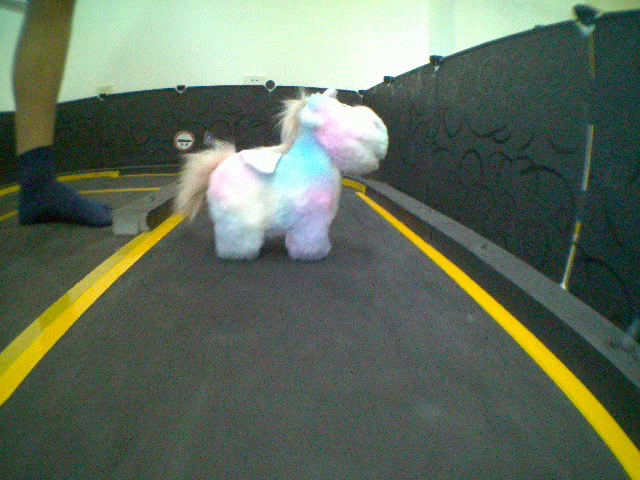unicorn: (171, 85, 390, 267)
